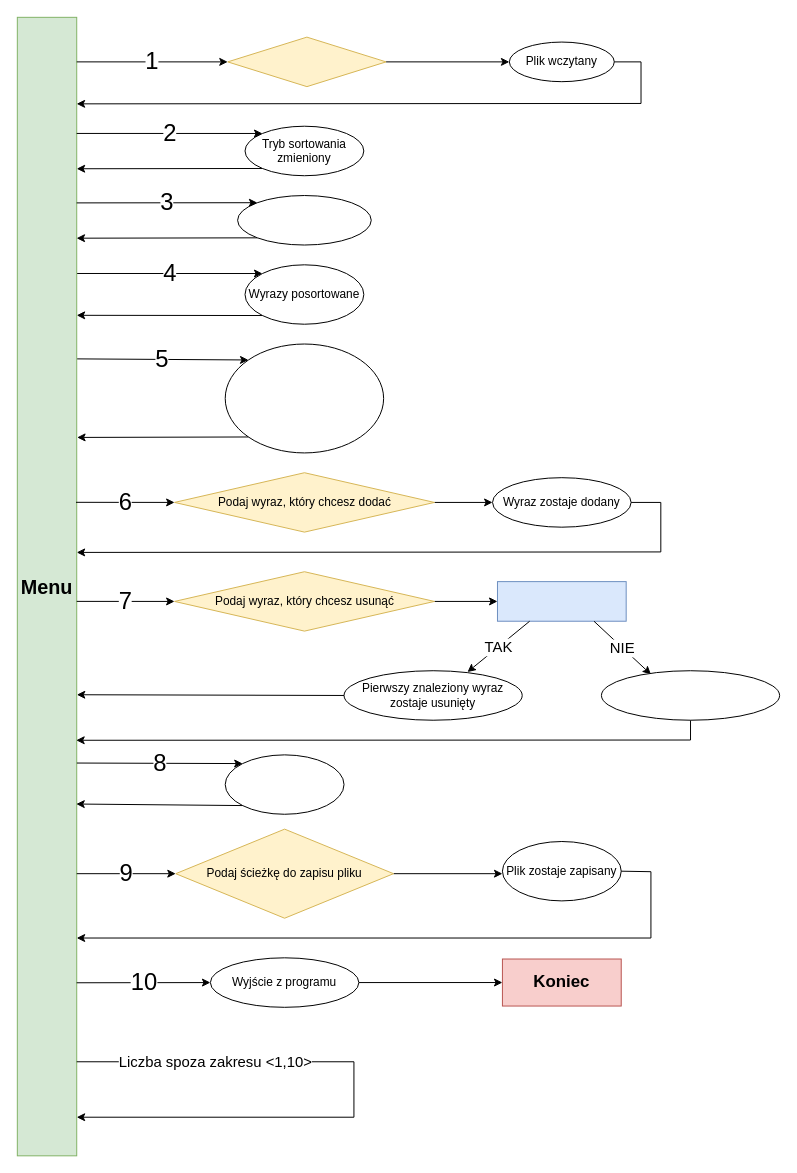
Some shapes in this 797 by 1173 pixel diagram are drawn without their labels. Here are the shapes that lost their labels. From the top down, the centre of each, then its label:
At (x=306, y=61): "Podaj ścieżkę do pliku".
At (x=304, y=220): "Kolejność sortowania zmieniona".
At (x=304, y=398): "Wyświetlenie najdłuższego i najkrótszego wyrazu".
At (x=561, y=601): "Czy podany wyraz znajduje się w tablicy?".
At (x=690, y=695): "Tablica pozostaje bez zmian".
At (x=284, y=784): "Wyświetlenie tablicy".
